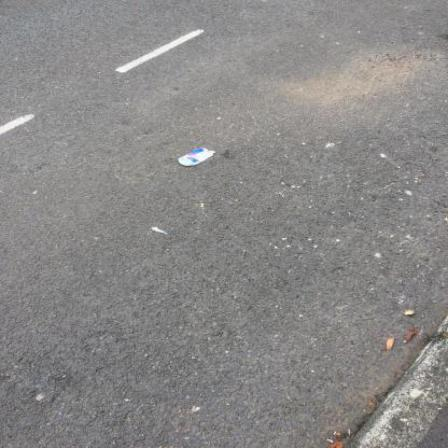Can: (180, 149, 217, 167)
Unlabeled litter: (153, 229, 169, 237)
